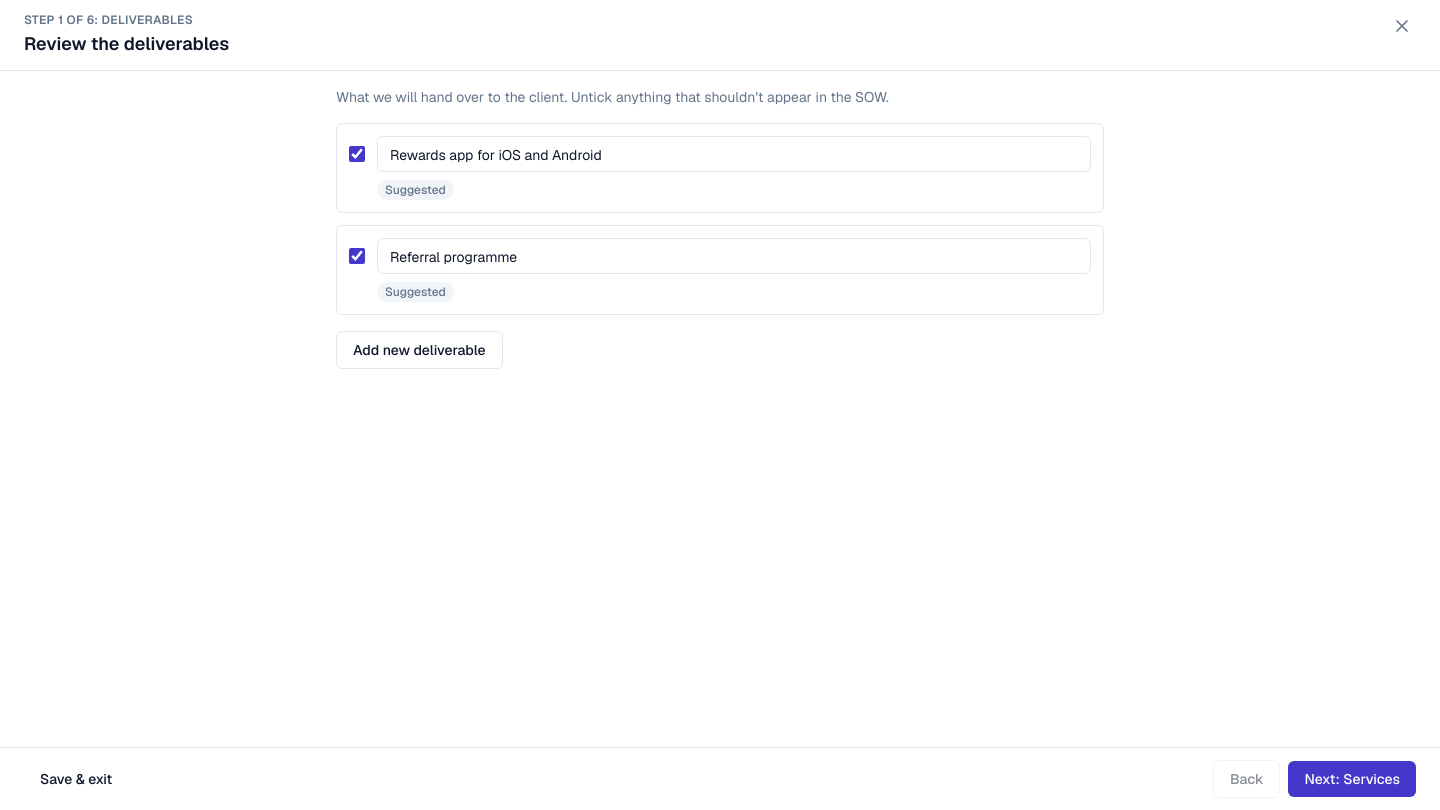
Test case: SowReviewOverlay — validation › won't leave Deliverables with no included item
The width and height of the screenshot is (1440, 810).
Click the checkbox named "include deliverable 1" at (357, 154), box x1=349 y1=146 x2=365 y2=162
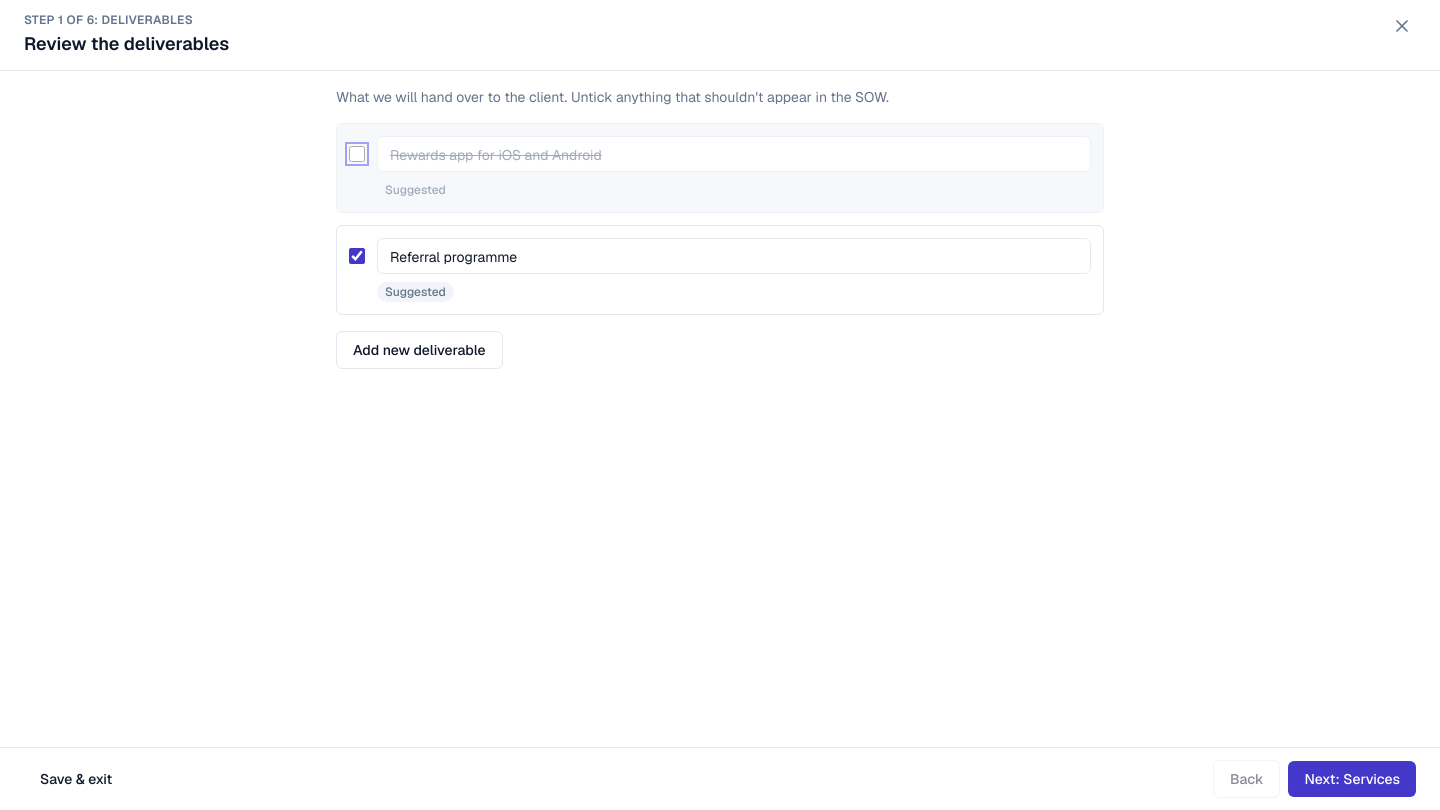
Click the checkbox named "include deliverable 2" at (357, 256), box x1=349 y1=248 x2=365 y2=264
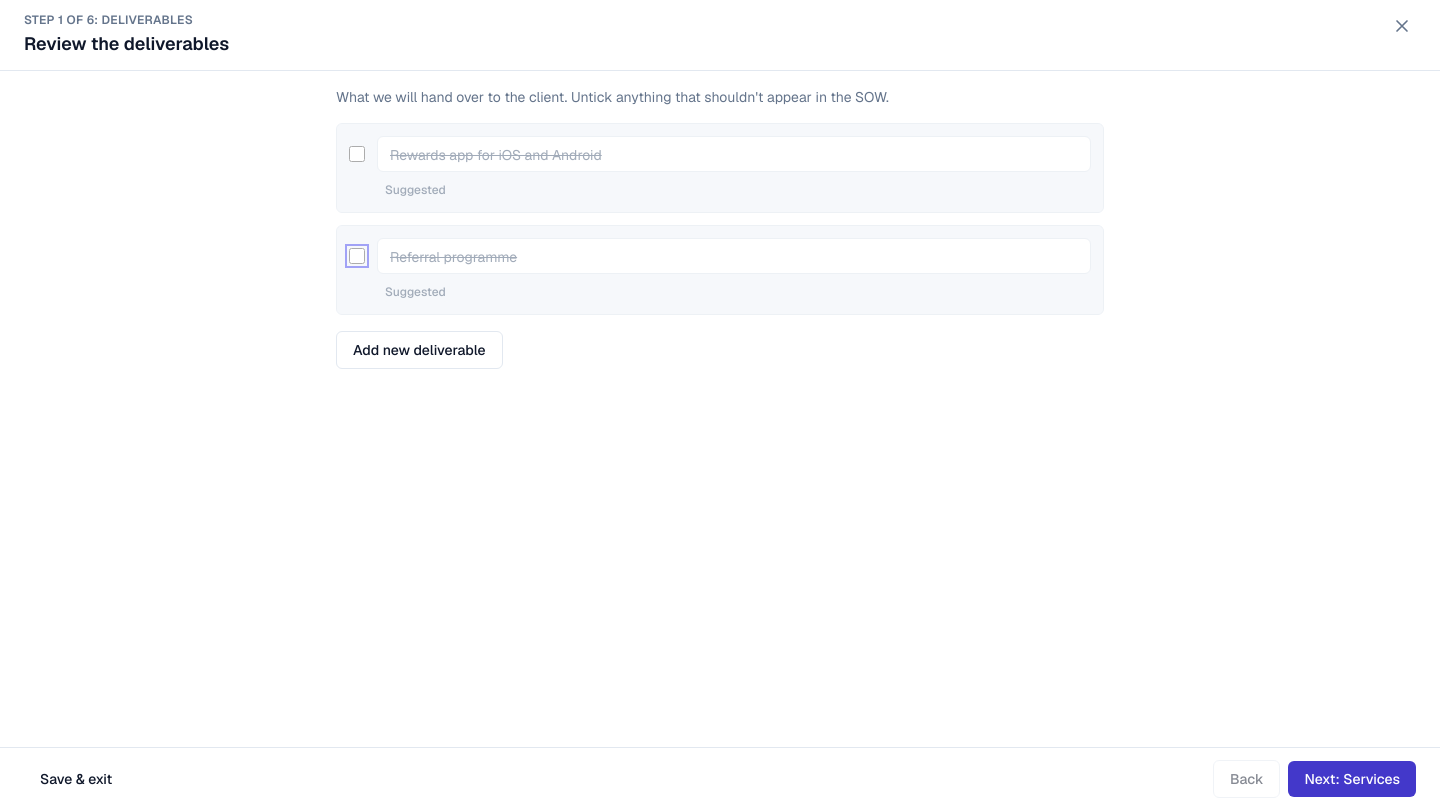
Click the button "Next: Services" at (1352, 779), box x1=1288 y1=761 x2=1416 y2=797
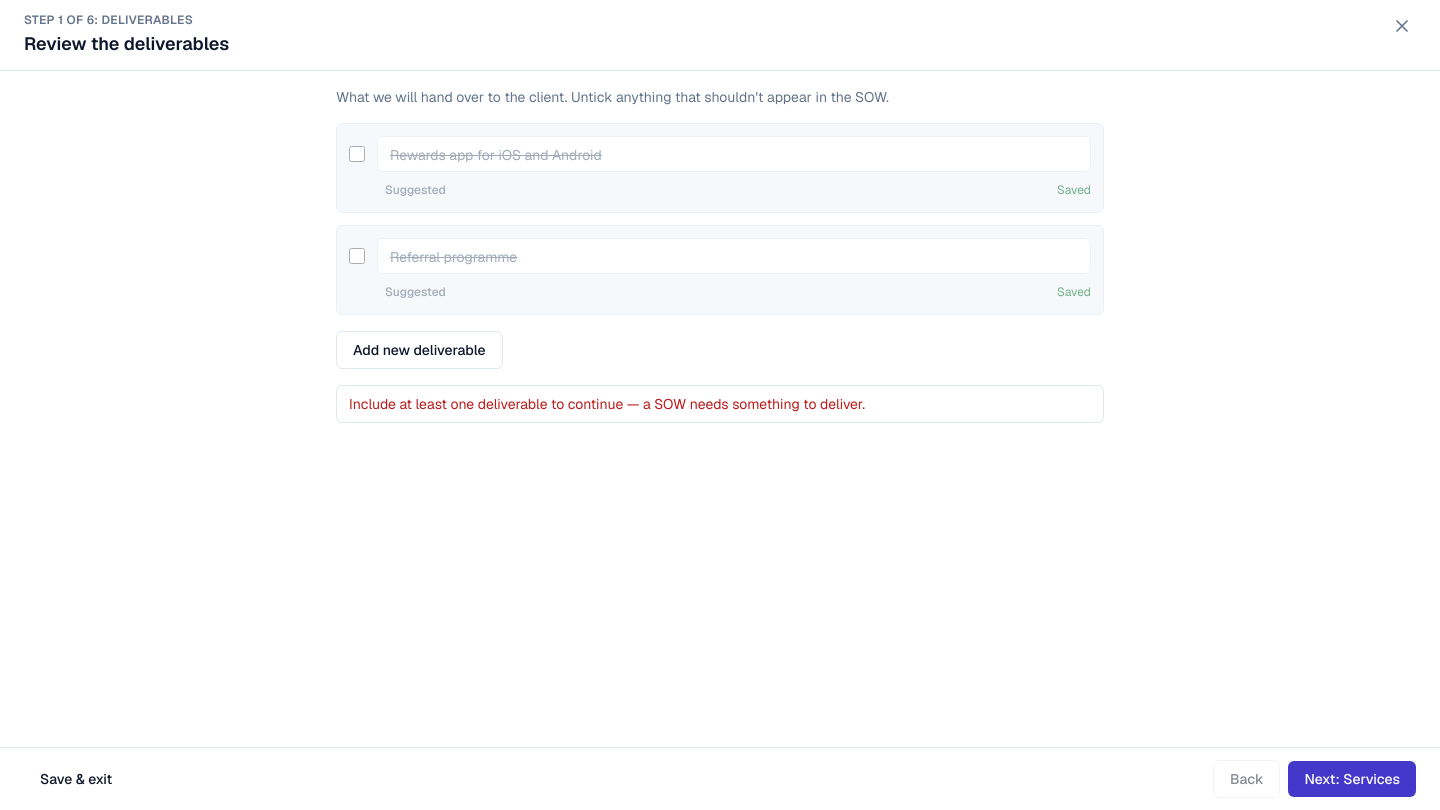
Check: the text with test id "step-indicator" reads "Step 1 of 6: Deliverables", box x1=24 y1=12 x2=193 y2=28
Check: the message shows "at least one deliverable", box x1=349 y1=395 x2=865 y2=413
